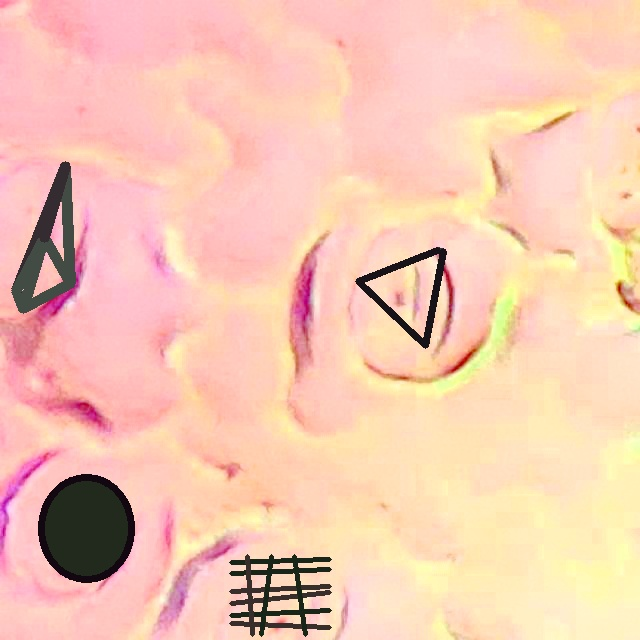close: (12, 162, 75, 312), (355, 247, 446, 348), (229, 554, 331, 636)
open: (38, 474, 134, 582)
